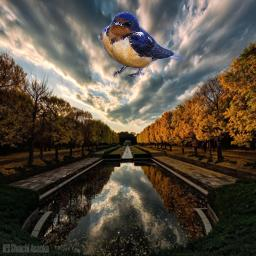Swallow: (97, 11, 186, 79)
